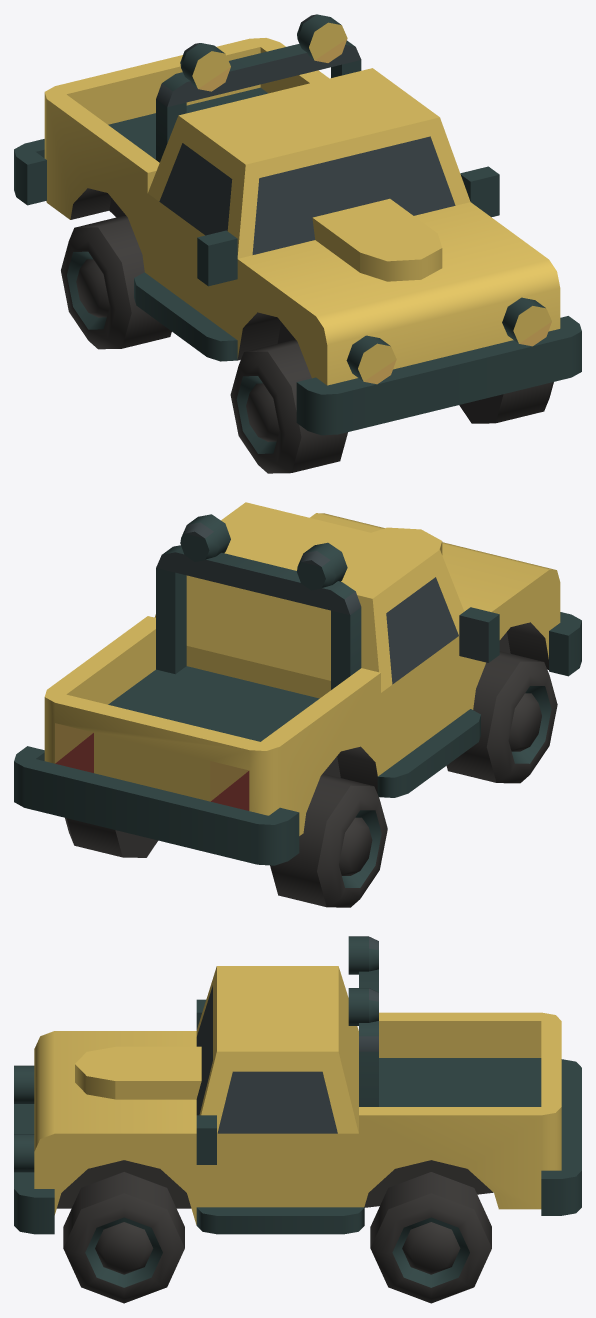
File: truck.glb
3 views of the same model, one above another, from view 1: azimuth 30°, elevation 25°; view 2: azimuth 150°, elevation 25°; view 3: azimuth 270°, elevation 25° (orthographic). The views are drawn at different scales.
Parts seen in each view (by area): view 1: body, wheel-back-right, wheel-front-right, wheel-front-left; view 2: body, wheel-back-right, wheel-front-right, wheel-back-left; view 3: body, wheel-front-left, wheel-back-left.
Boxes of the visible parts, x1,y1,x2,y2 form: body: [14, 14, 581, 435]; wheel-back-right: [61, 216, 171, 349]; wheel-front-right: [230, 340, 347, 473]; wheel-front-left: [459, 382, 553, 423]; body: [14, 502, 581, 865]; wheel-back-right: [270, 774, 387, 907]; wheel-front-right: [446, 651, 557, 783]; wheel-back-left: [65, 818, 157, 857]; body: [14, 936, 581, 1234]; wheel-front-left: [63, 1172, 184, 1303]; wheel-back-left: [370, 1172, 491, 1303].
Bounding box in the file's own units: 1.5 × 1.55 × 2.8.
